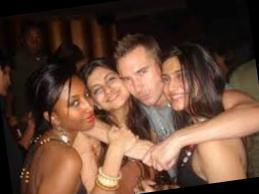Drunk: (119, 51, 163, 106), (56, 79, 94, 129), (162, 57, 192, 111), (88, 66, 125, 108)
